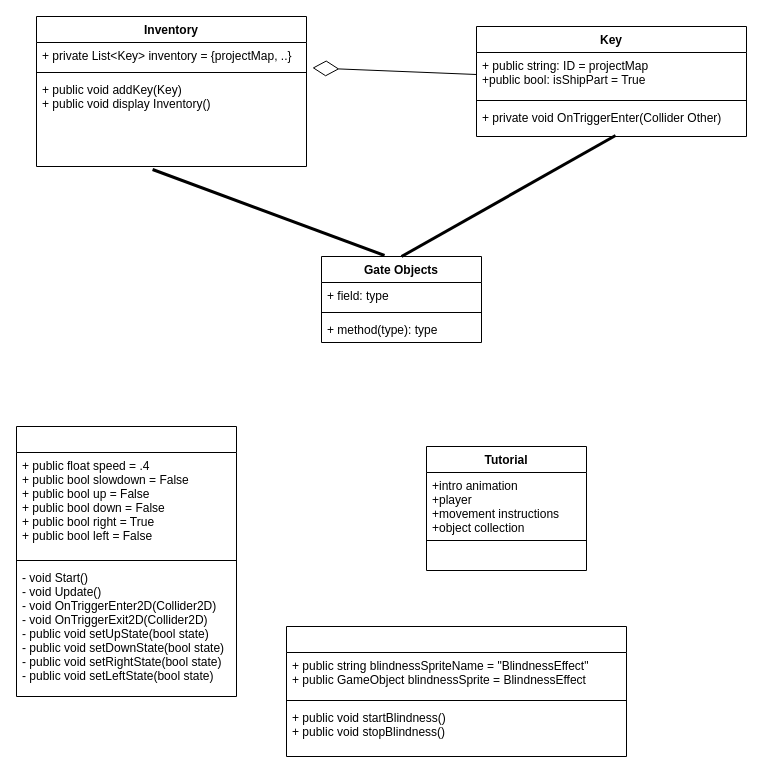
The diagram is 763 pixels wide and 773 high, and some of its shapes have lost their labels. Each missing label, with the box of its shape:
BlindnessStatusEffect: (286, 626, 626, 756)
Movement: (16, 426, 236, 696)
